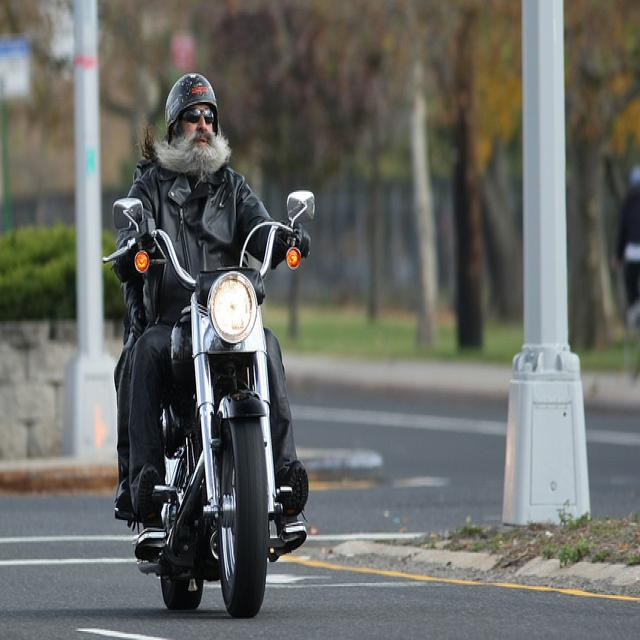motor: (103, 188, 315, 615)
